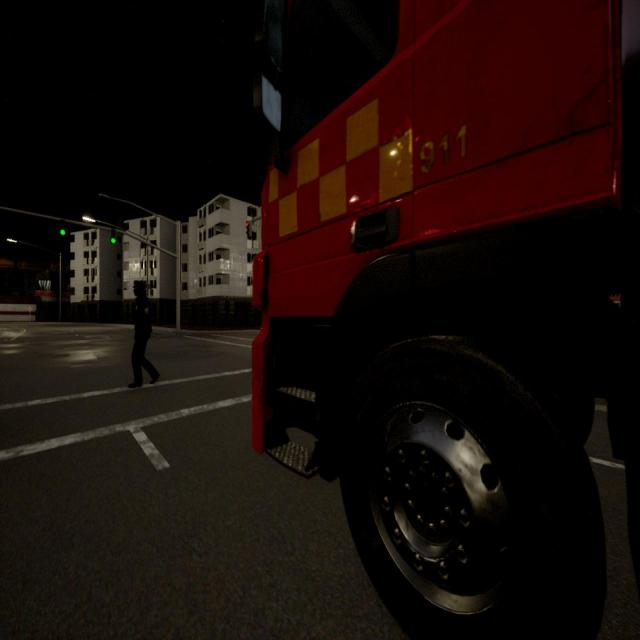Pedestrian: (128, 281, 158, 387)
Traffic_Signs: (28, 307, 32, 310)
Vehicle: (252, 0, 640, 636)
traffic_light: (246, 221, 252, 239), (111, 230, 116, 243), (61, 220, 65, 234)
